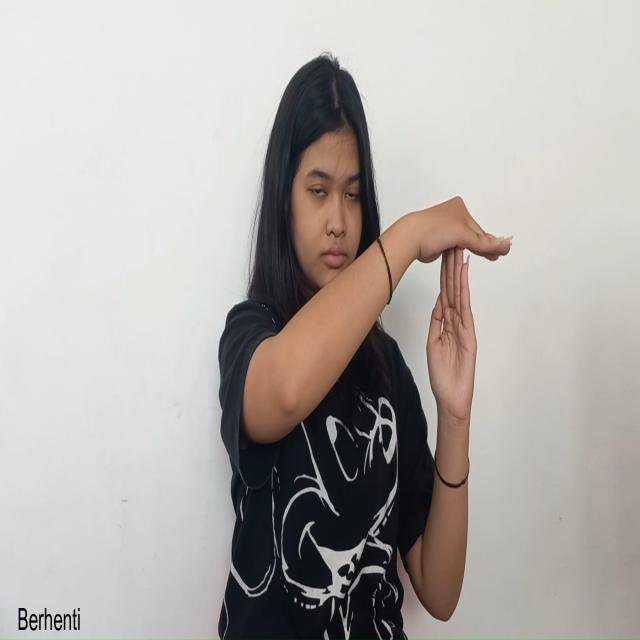Berhenti -BISINDO-: (406, 191, 515, 428)
